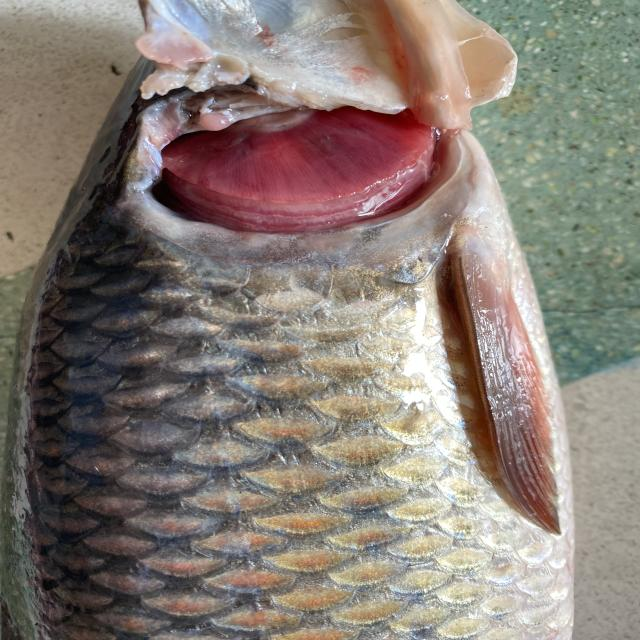Fresh: (104, 91, 505, 274)
